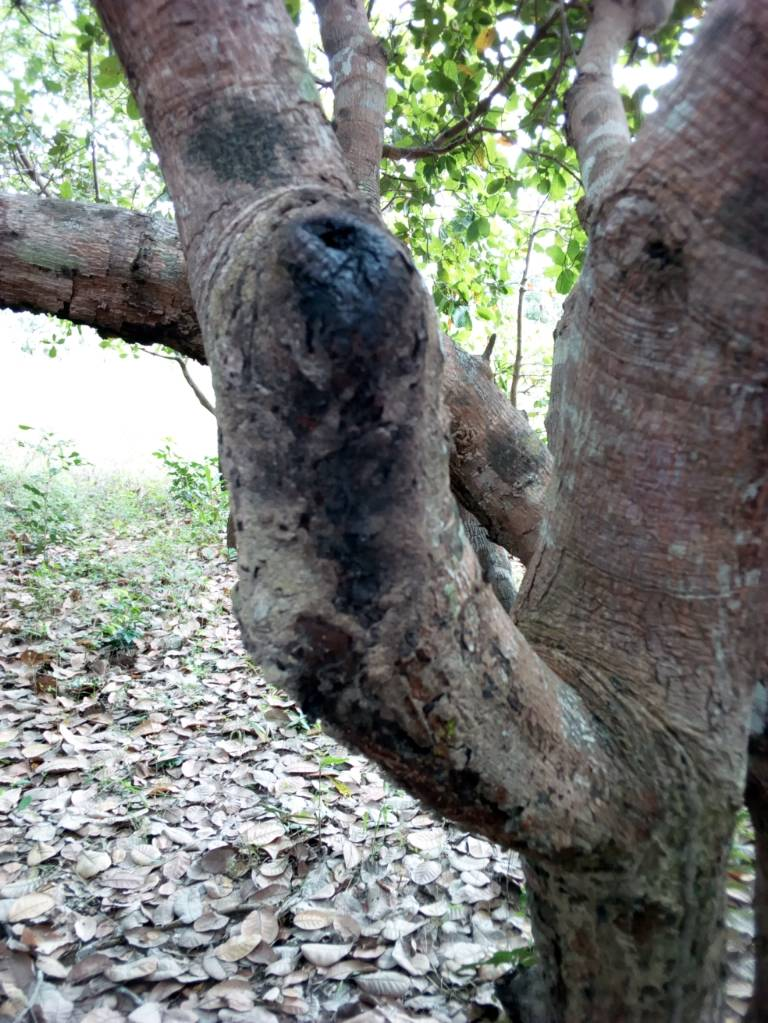Termites: (580, 742, 724, 1023)
